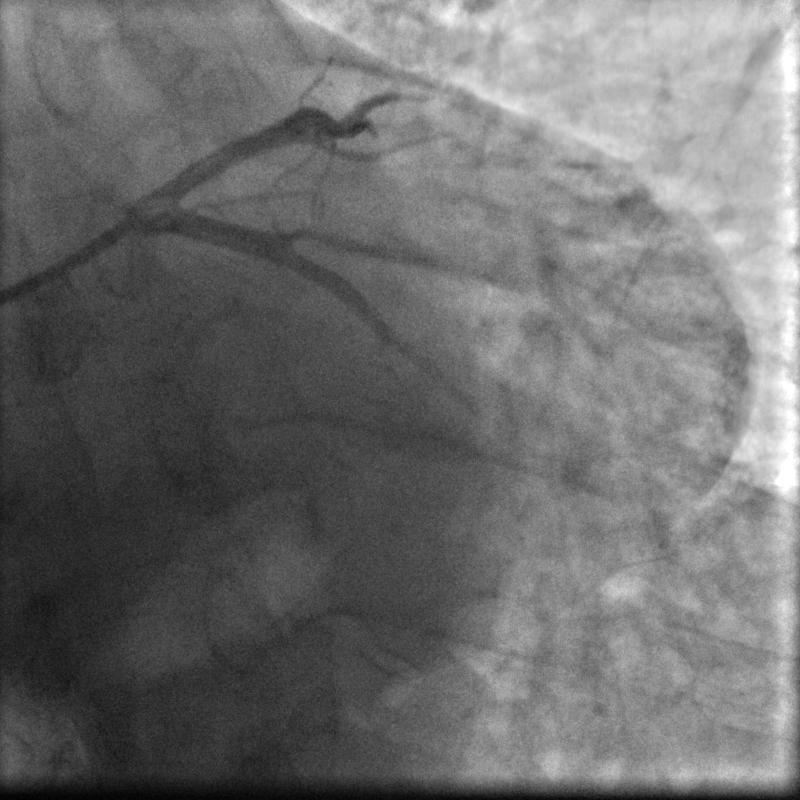Stenosis: (404, 337, 445, 393)
